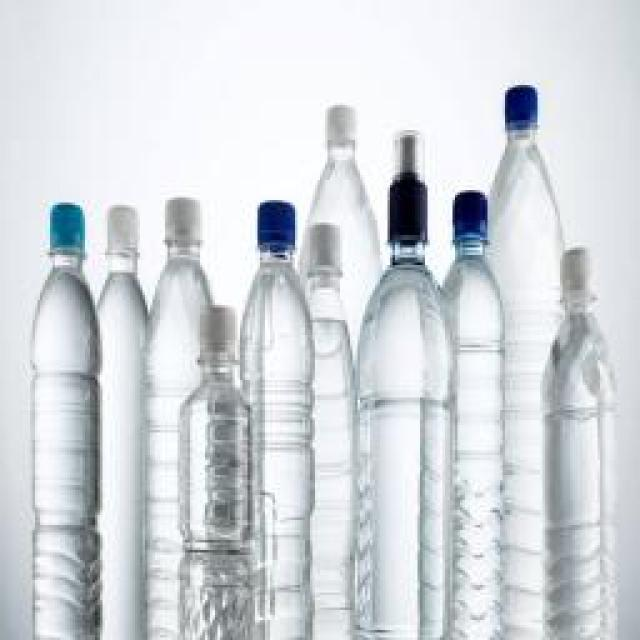bottle: (355, 127, 452, 640), (238, 200, 317, 640), (440, 190, 510, 640), (541, 241, 618, 640), (32, 202, 100, 640), (146, 196, 213, 640), (180, 307, 257, 640), (96, 201, 146, 640)
